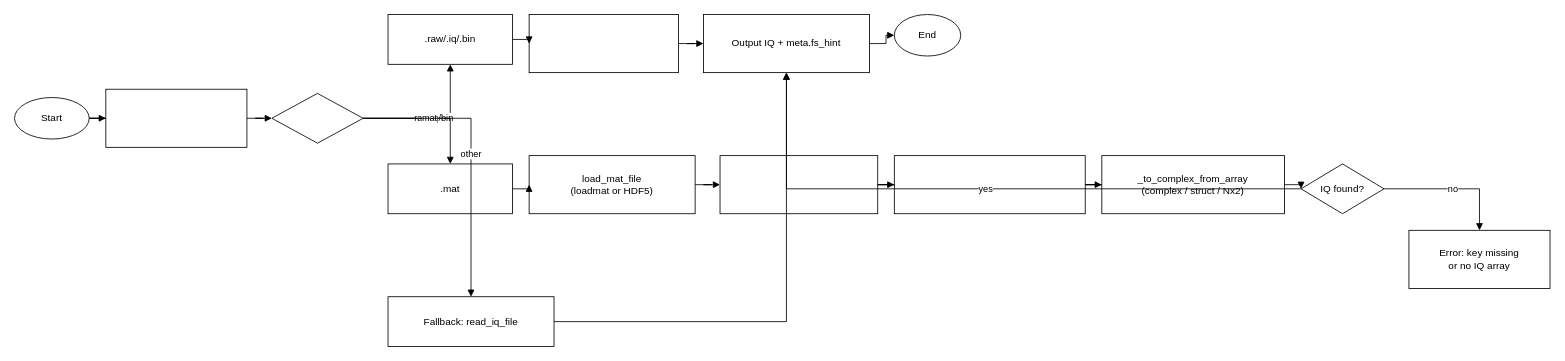
Image size: 1565x361. Some labels were removed from this diagram. Each missing label, with the box of its shape:
Check extension: (271, 93, 363, 143)
fs_hint from keys fs/Fs/samp_rate: (719, 155, 878, 214)
Input: path, mat_key?: (105, 88, 247, 147)
pick_iq_array (priority: mat_key + heuristics): (893, 155, 1085, 214)
read_iq_file (interleaved f32): (528, 14, 679, 73)
